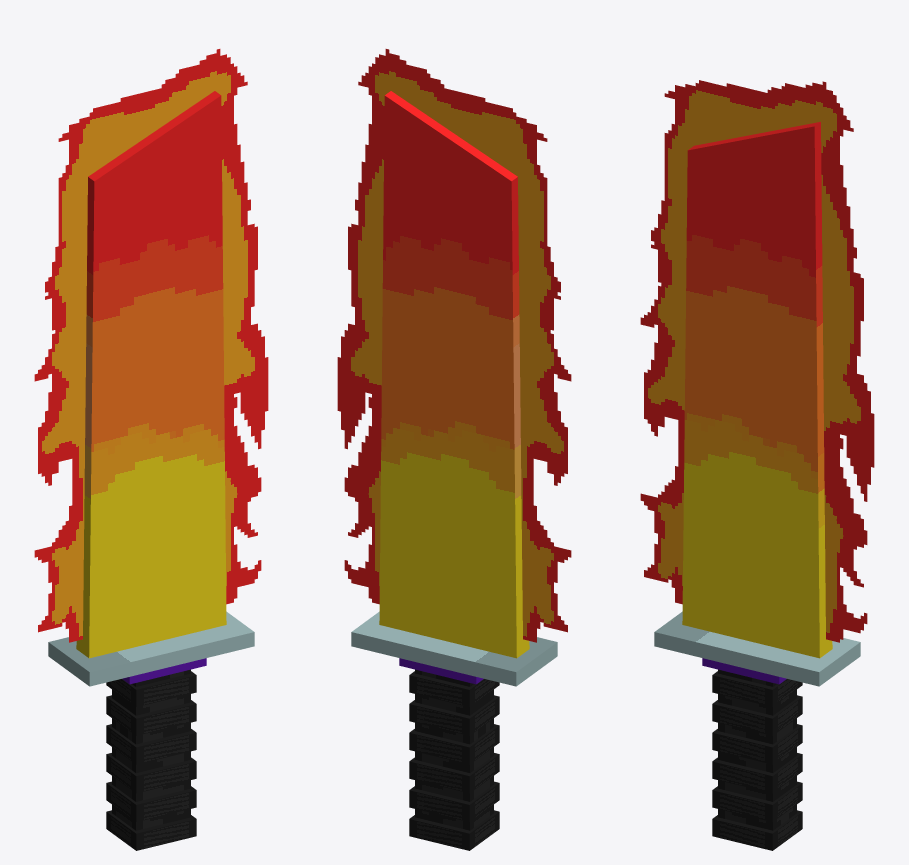
The model's file is sword3_fire.gltf.
3 views of the same model, side by side, from view 1: azimuth 30°, elevation 25°; view 2: azimuth 150°, elevation 25°; view 3: azimuth 330°, elevation 25° (orthographic).
Visible parts, largest first — view 1: mesh (×10), plane; view 2: mesh (×10), plane; view 3: mesh (×10), plane.
Part boxes in pixels (x1,y1,x2,y2): mesh (×10): (48, 91, 254, 850); plane: (34, 49, 268, 642); mesh (×10): (351, 91, 557, 850); plane: (337, 49, 571, 642); mesh (×10): (654, 122, 860, 850); plane: (640, 80, 874, 642).
Bounding box in the file's own units: 0.625 × 1.71 × 0.1625.
5 materials, 5 textured.
